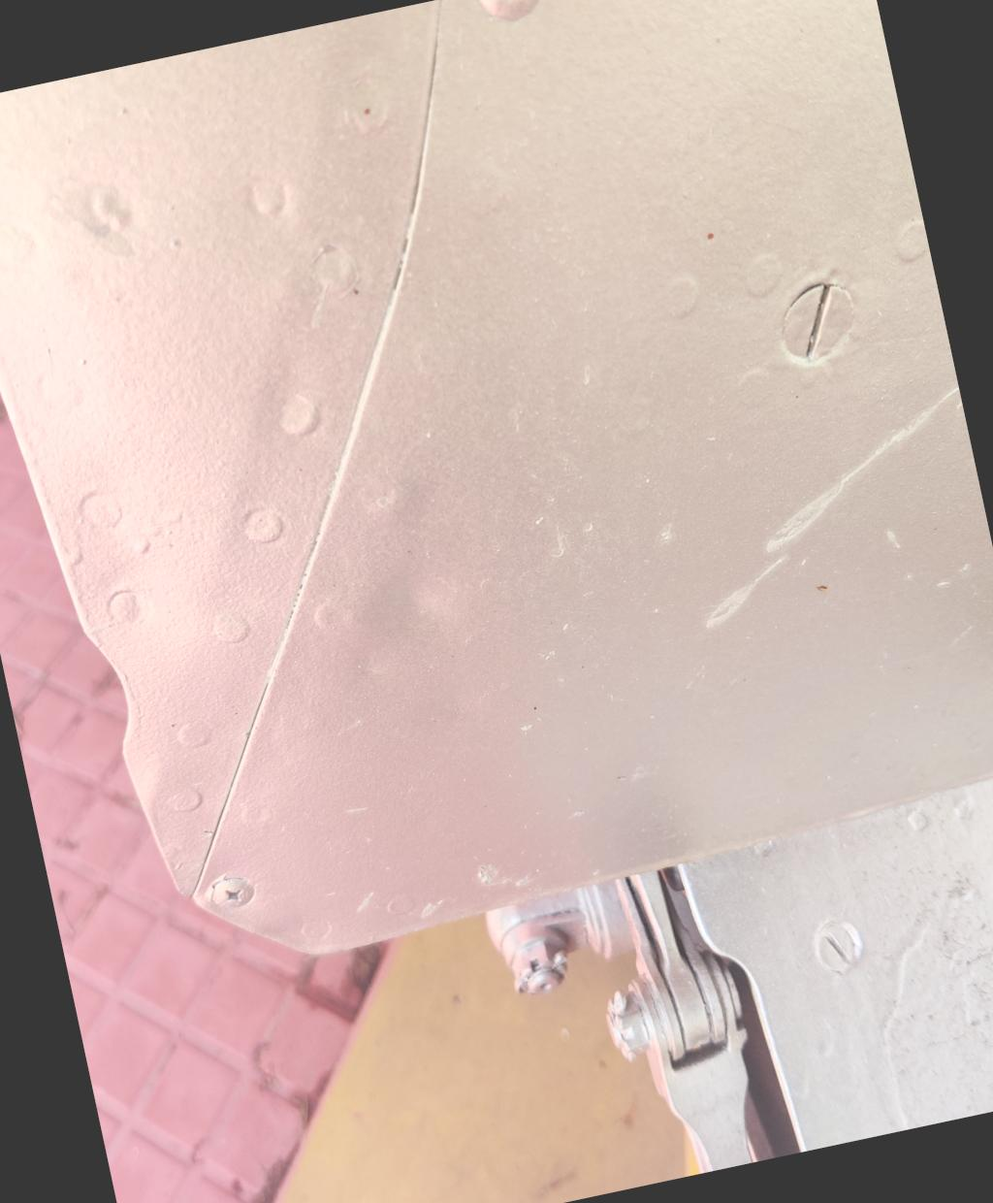dent: (324, 537, 493, 690)
